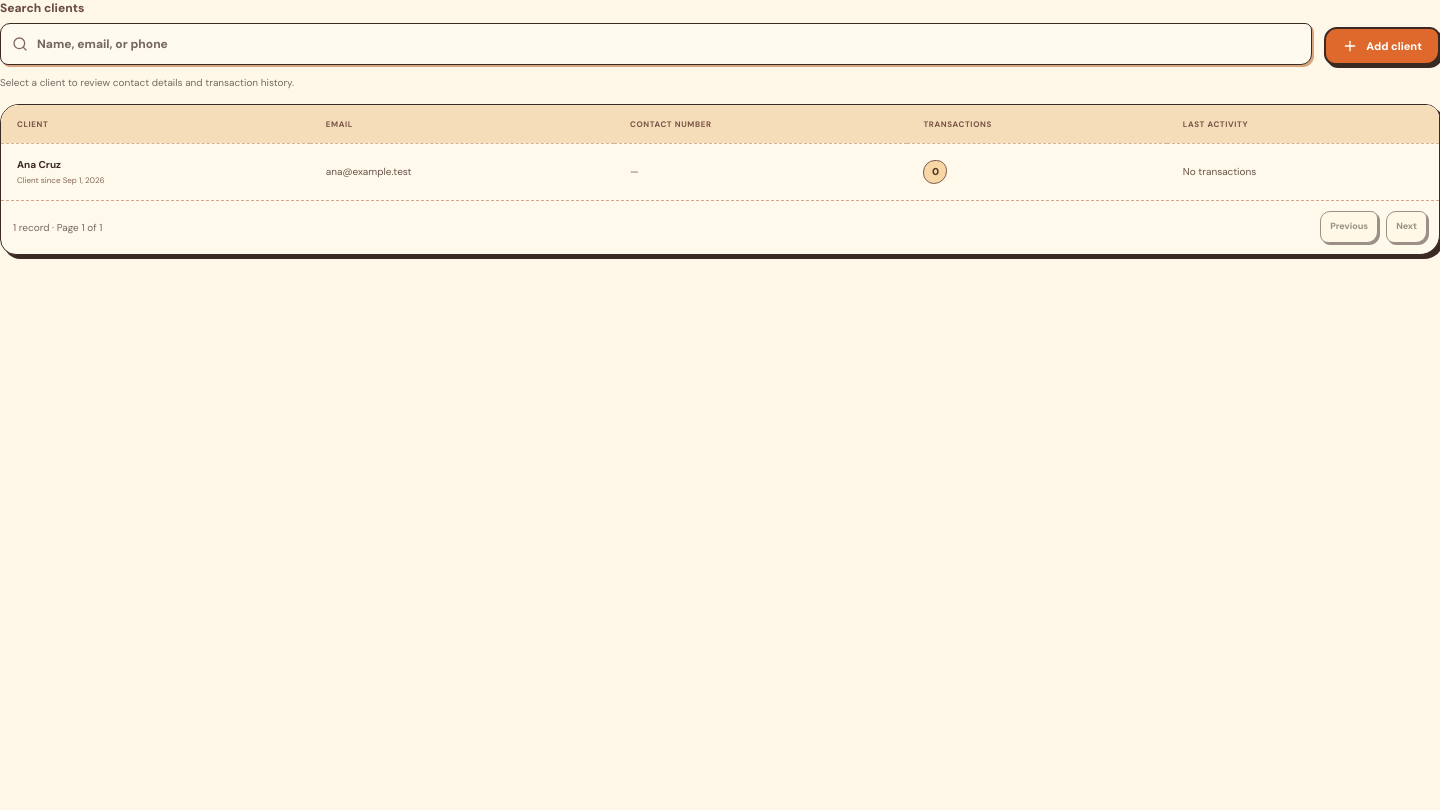
Test case: Clients workflow › shows a read-only historical waiver for a service transaction
Step 1. Click the button with aria-label "Open Ana Cruz details" → {"x": 720, "y": 171}, box [1,143,1439,200]
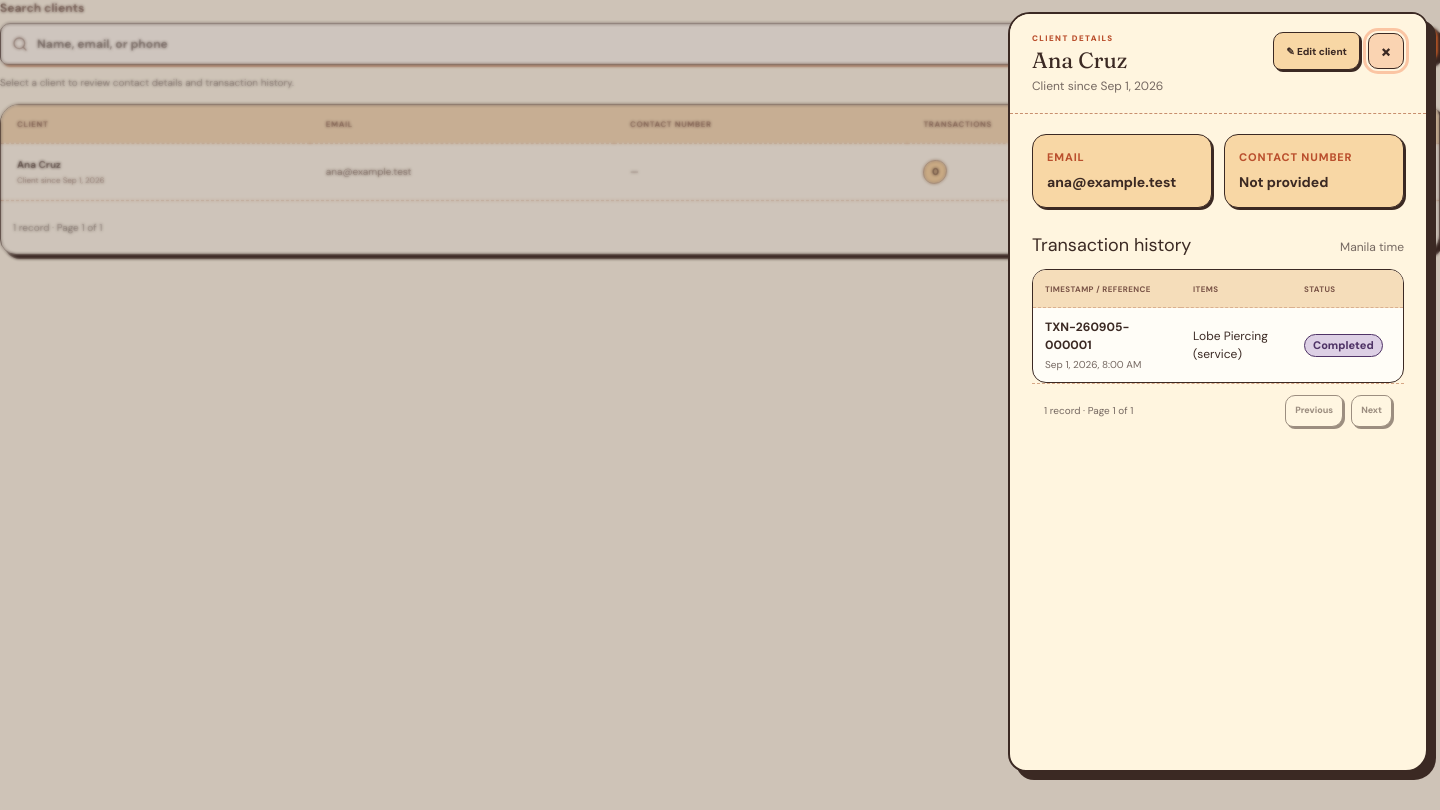
Step 2. Click the button "TXN-260905-000001" → {"x": 1107, "y": 336}, box [1045,318,1169,354]
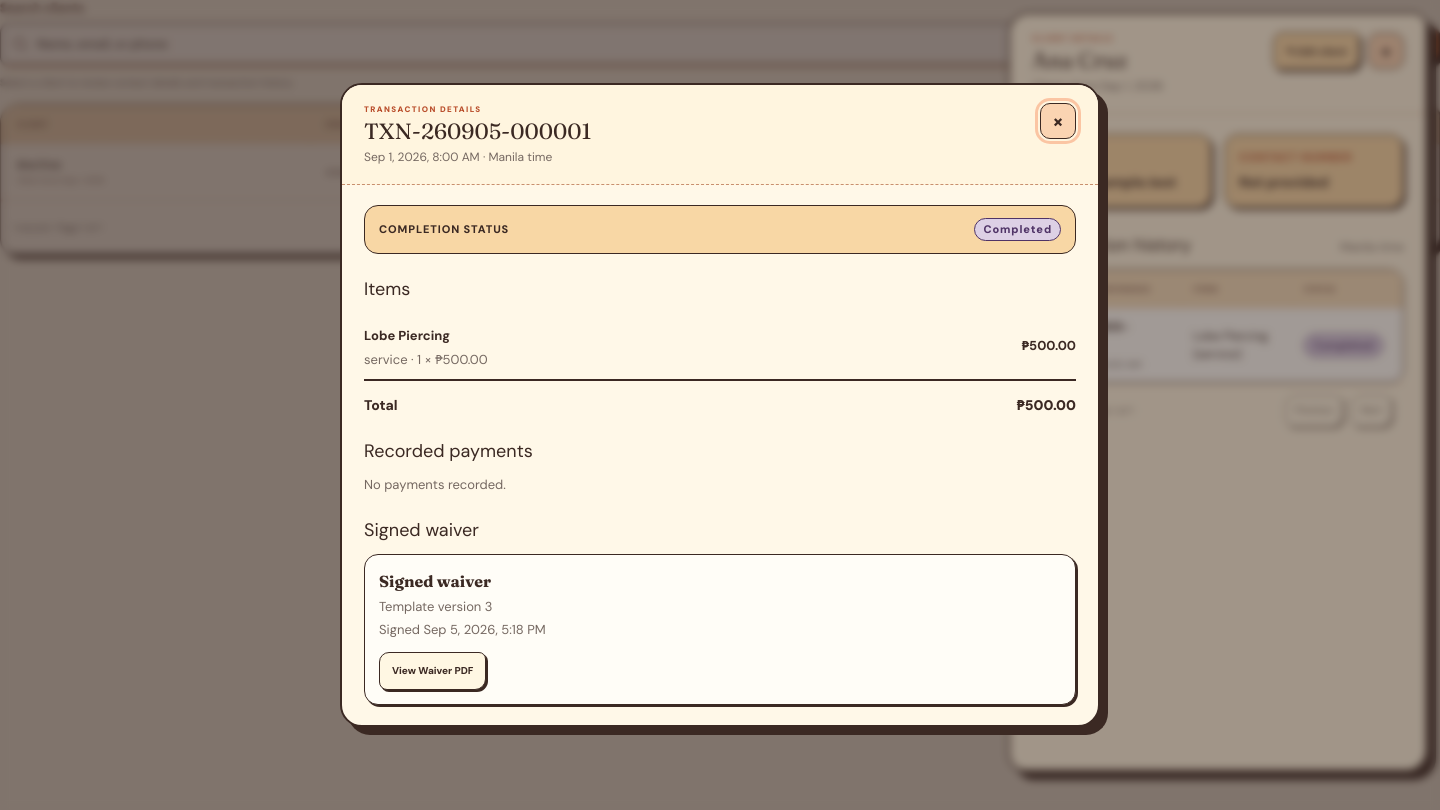
Expected: the text "Template version 3" is shown, [379,598,492,615]
Expected: the text "Signed Sep 5, 2026, 5:18 PM" is shown, [379,621,546,638]
Expected: the button "View Waiver PDF" is enabled, [379,652,486,690]
